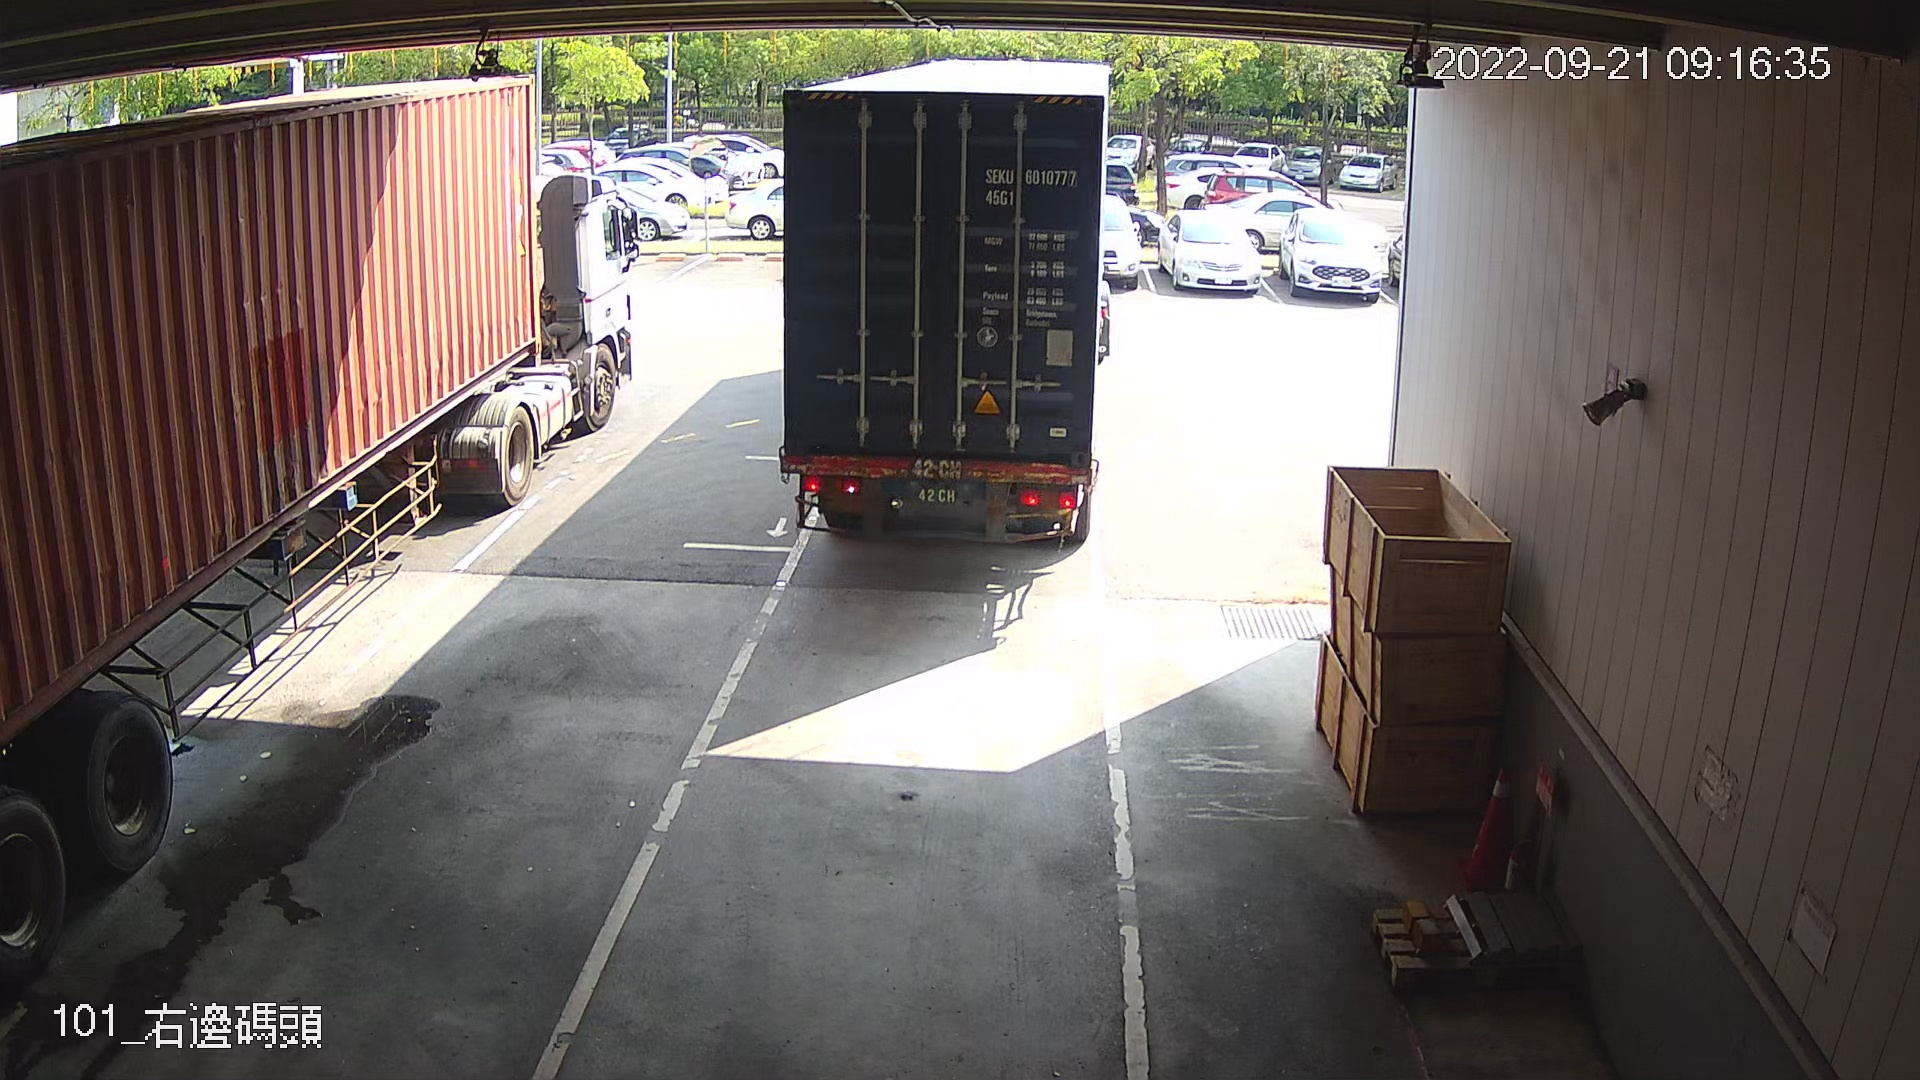container: (978, 158, 1084, 218)
